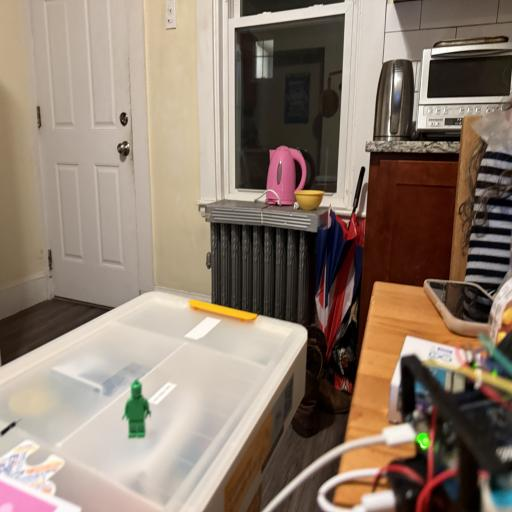Minifig: (123, 380, 151, 437)
